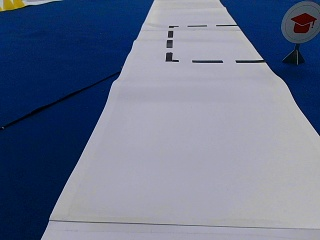school: (281, 2, 318, 44)
